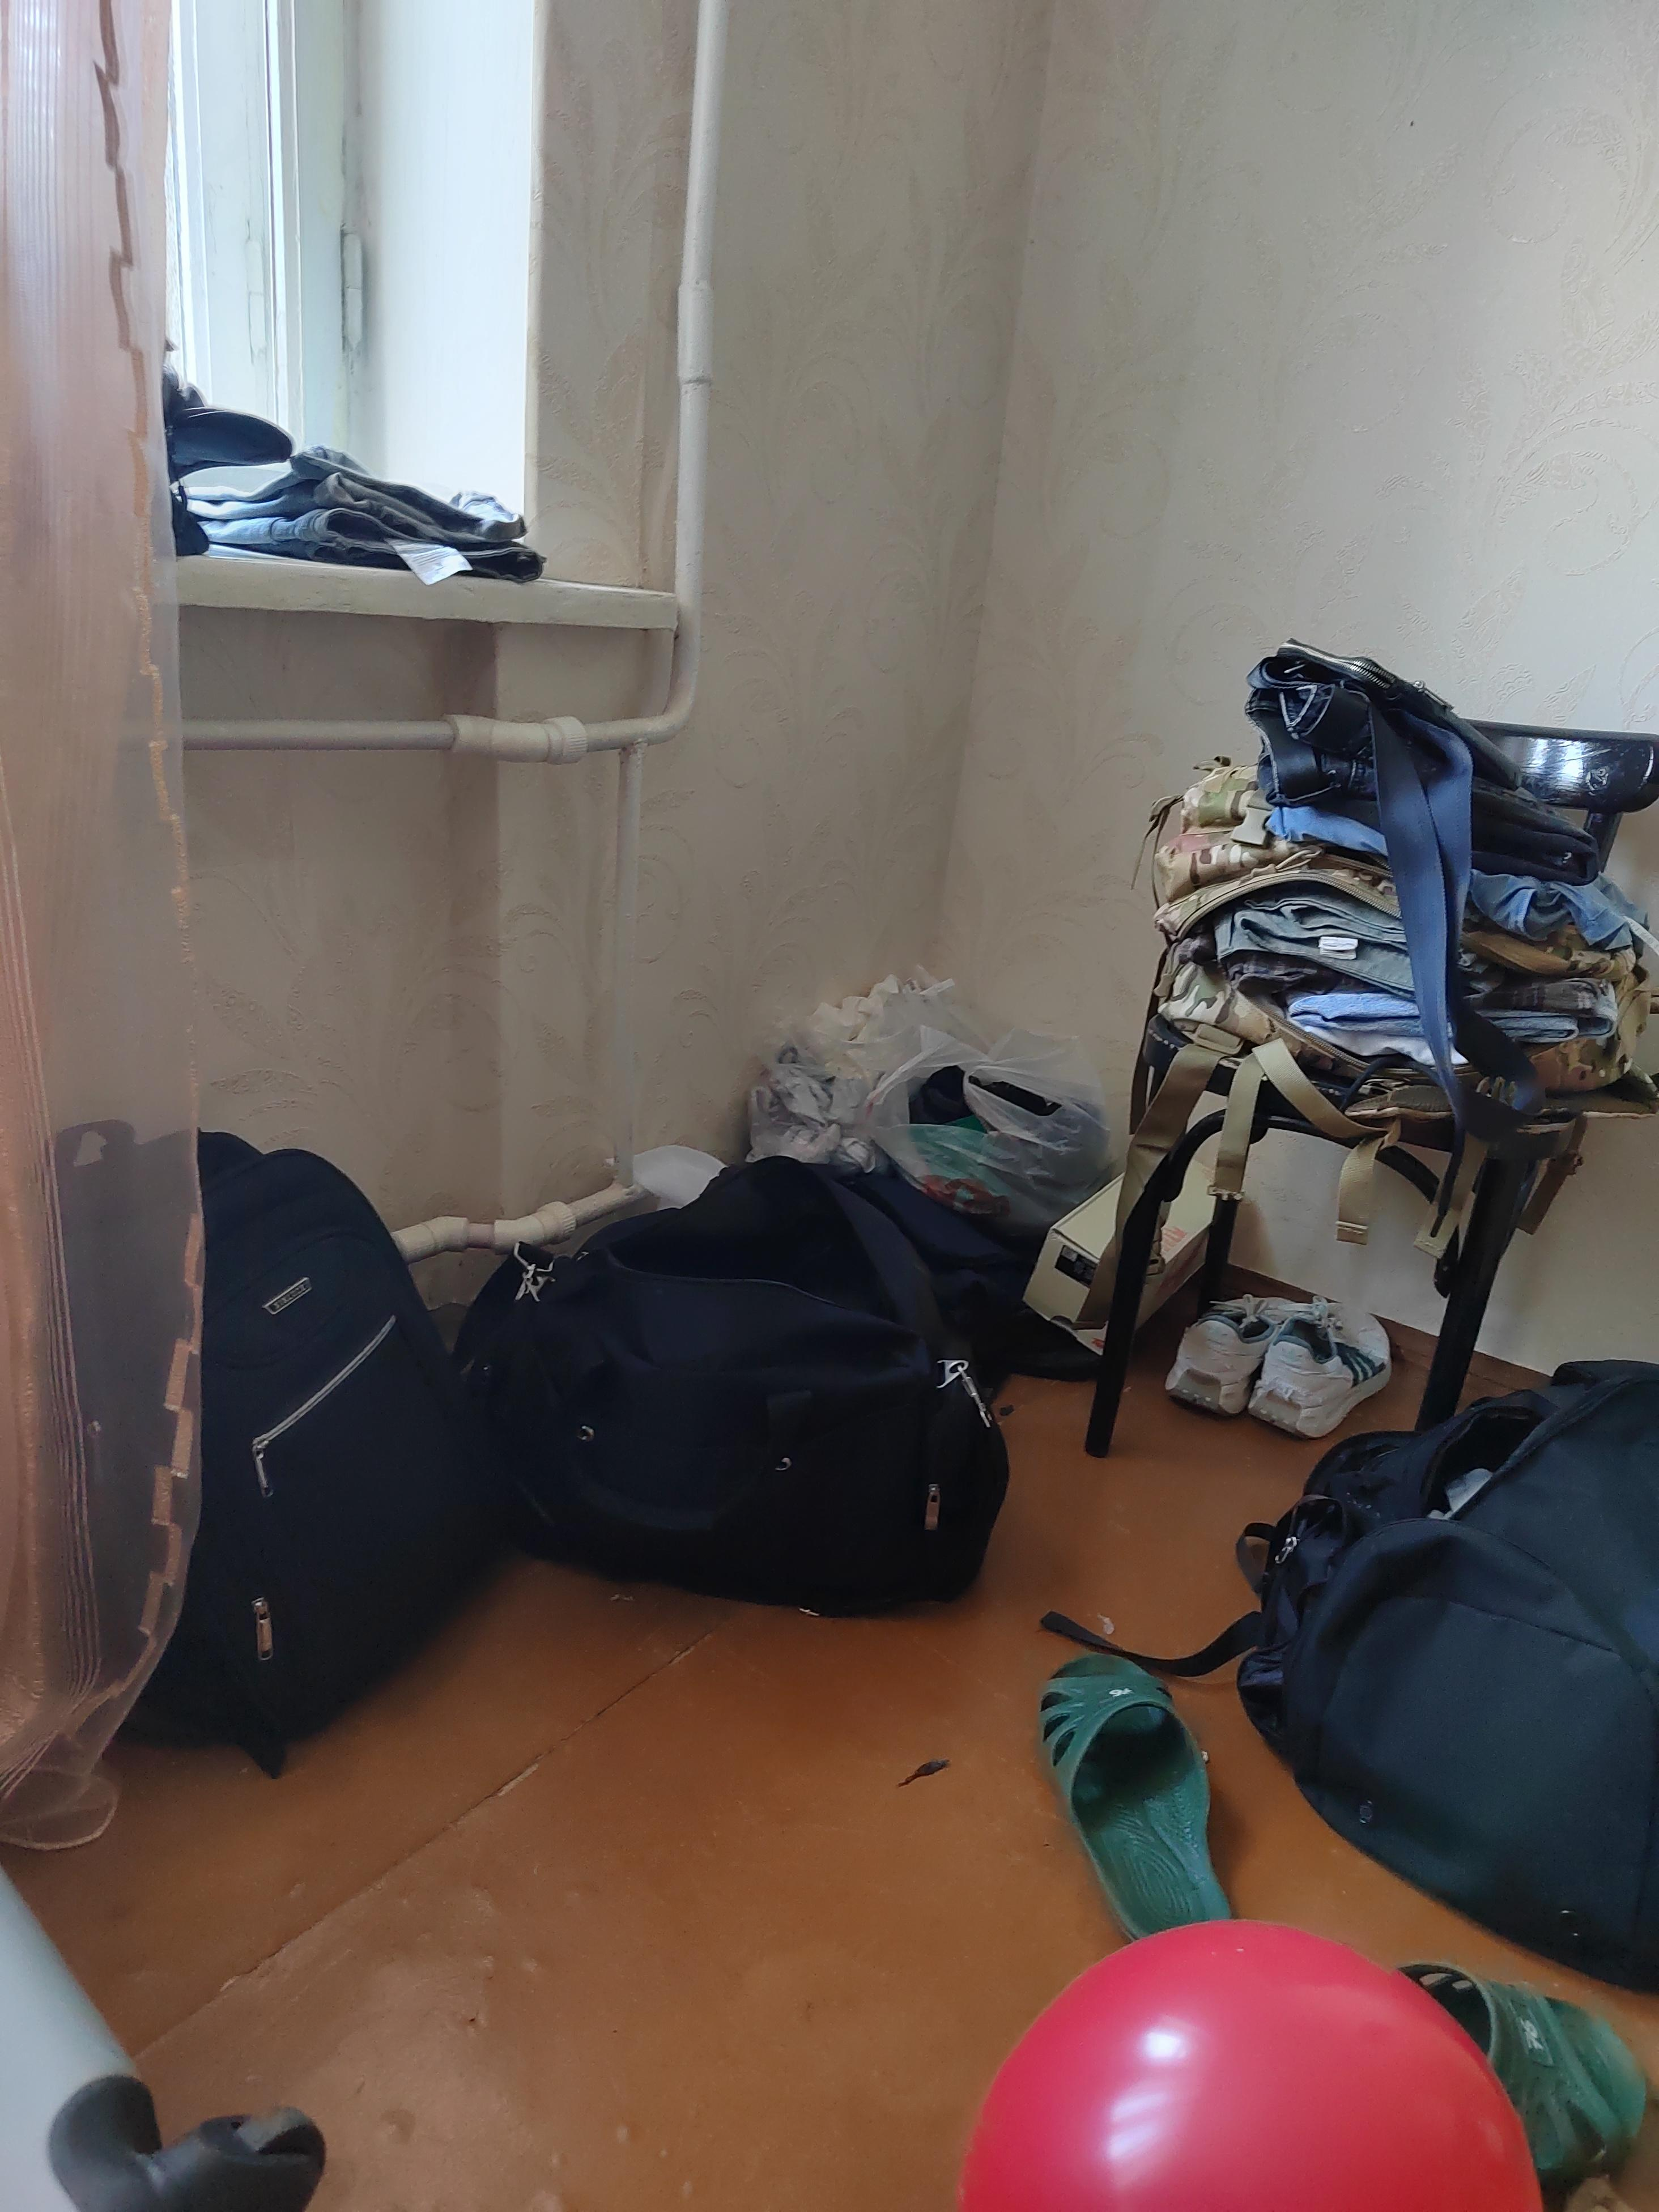red: (908, 1905, 1574, 2212)
